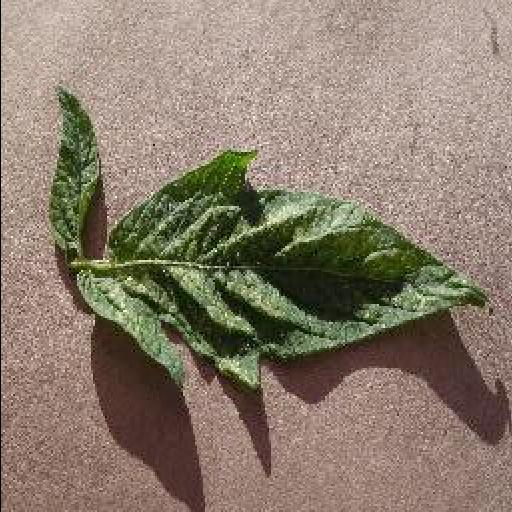disease_tomato: (74, 150, 488, 390)
